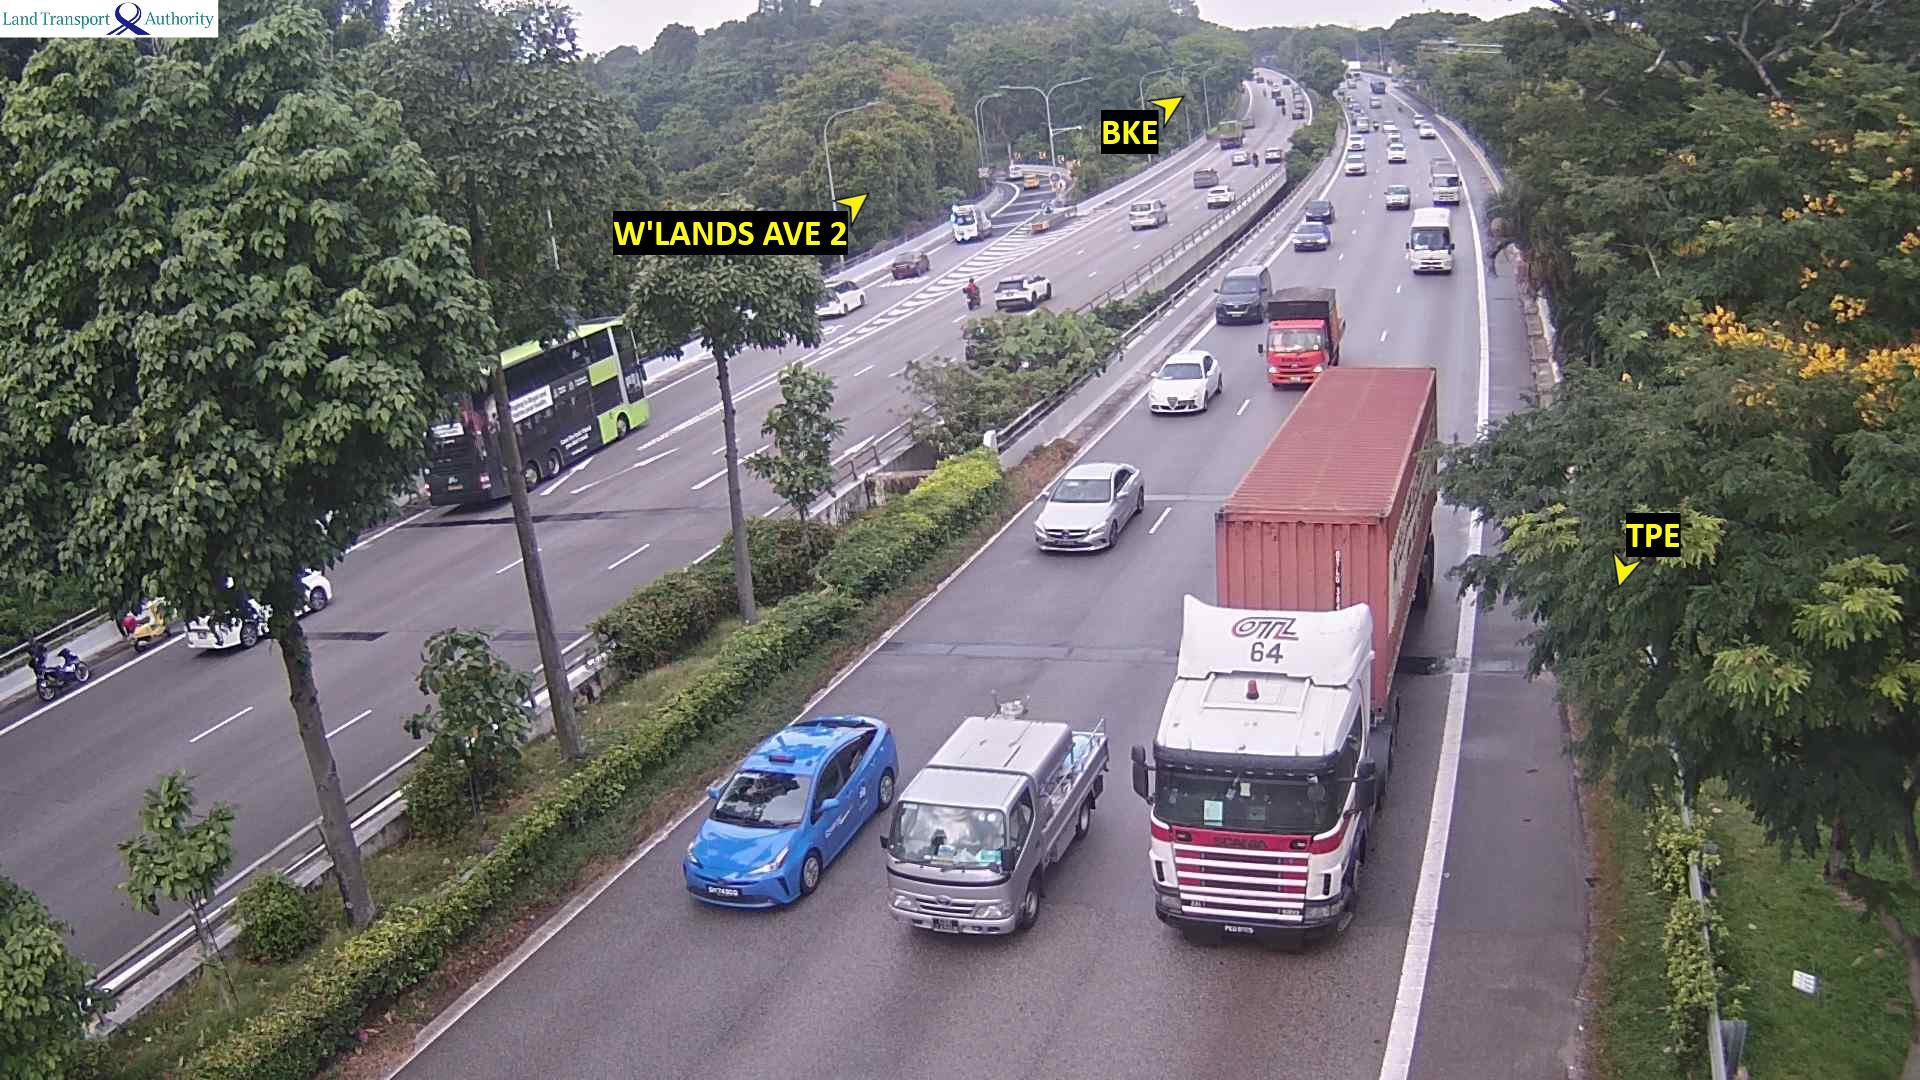bus: (421, 314, 651, 509), (1404, 206, 1455, 274)
cars: (680, 712, 898, 910), (1033, 460, 1145, 554), (1146, 348, 1222, 415), (185, 593, 272, 651), (1212, 264, 1271, 324), (1250, 67, 1309, 124), (992, 273, 1051, 313), (812, 278, 865, 316), (1127, 196, 1167, 229), (890, 248, 928, 280), (1291, 220, 1331, 251), (1429, 171, 1461, 204), (812, 286, 845, 316), (1217, 119, 1244, 149), (1303, 198, 1335, 222), (1383, 183, 1410, 208), (1205, 185, 1234, 207), (1192, 167, 1218, 187), (1342, 156, 1366, 175), (1386, 140, 1406, 162), (1230, 149, 1255, 166), (1263, 144, 1283, 162), (1006, 161, 1025, 181), (1353, 113, 1371, 132), (1346, 135, 1365, 152), (1418, 123, 1437, 138), (1023, 173, 1039, 189), (1369, 78, 1385, 94)
motorcycle: (22, 632, 90, 702), (121, 595, 170, 653)
trucks: (1212, 363, 1440, 727), (880, 692, 1110, 938), (1255, 285, 1344, 388), (949, 202, 992, 243)
